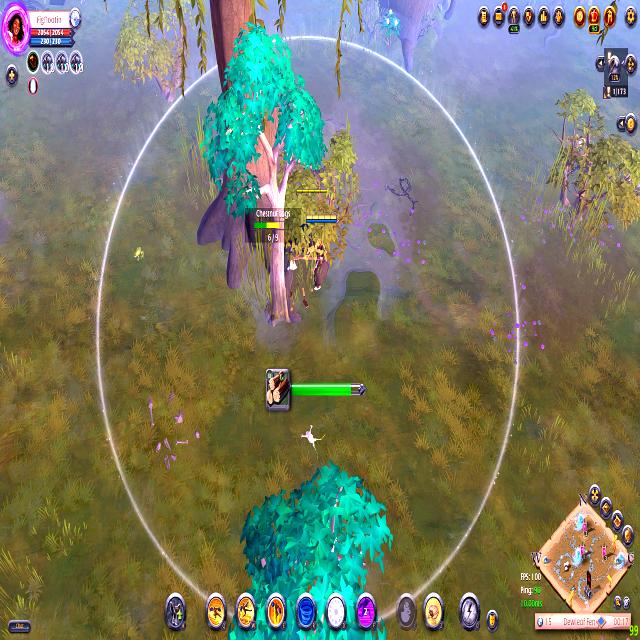hide: (376, 5, 404, 49)
red: (298, 197, 336, 298)
wisp caged: (199, 19, 327, 334), (226, 454, 395, 640)
